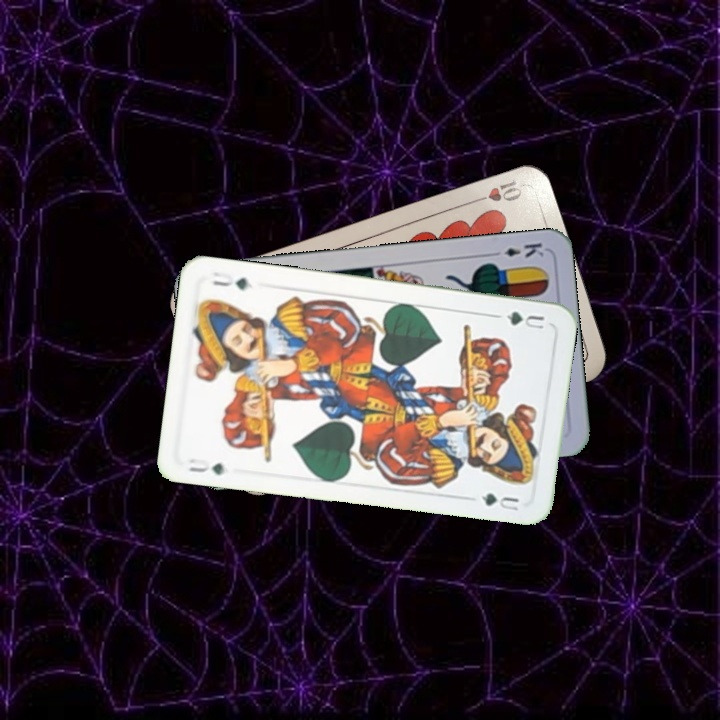EK: (487, 238, 547, 260)
GU: (502, 307, 547, 332), (183, 454, 227, 477)
H10: (467, 175, 526, 206)
